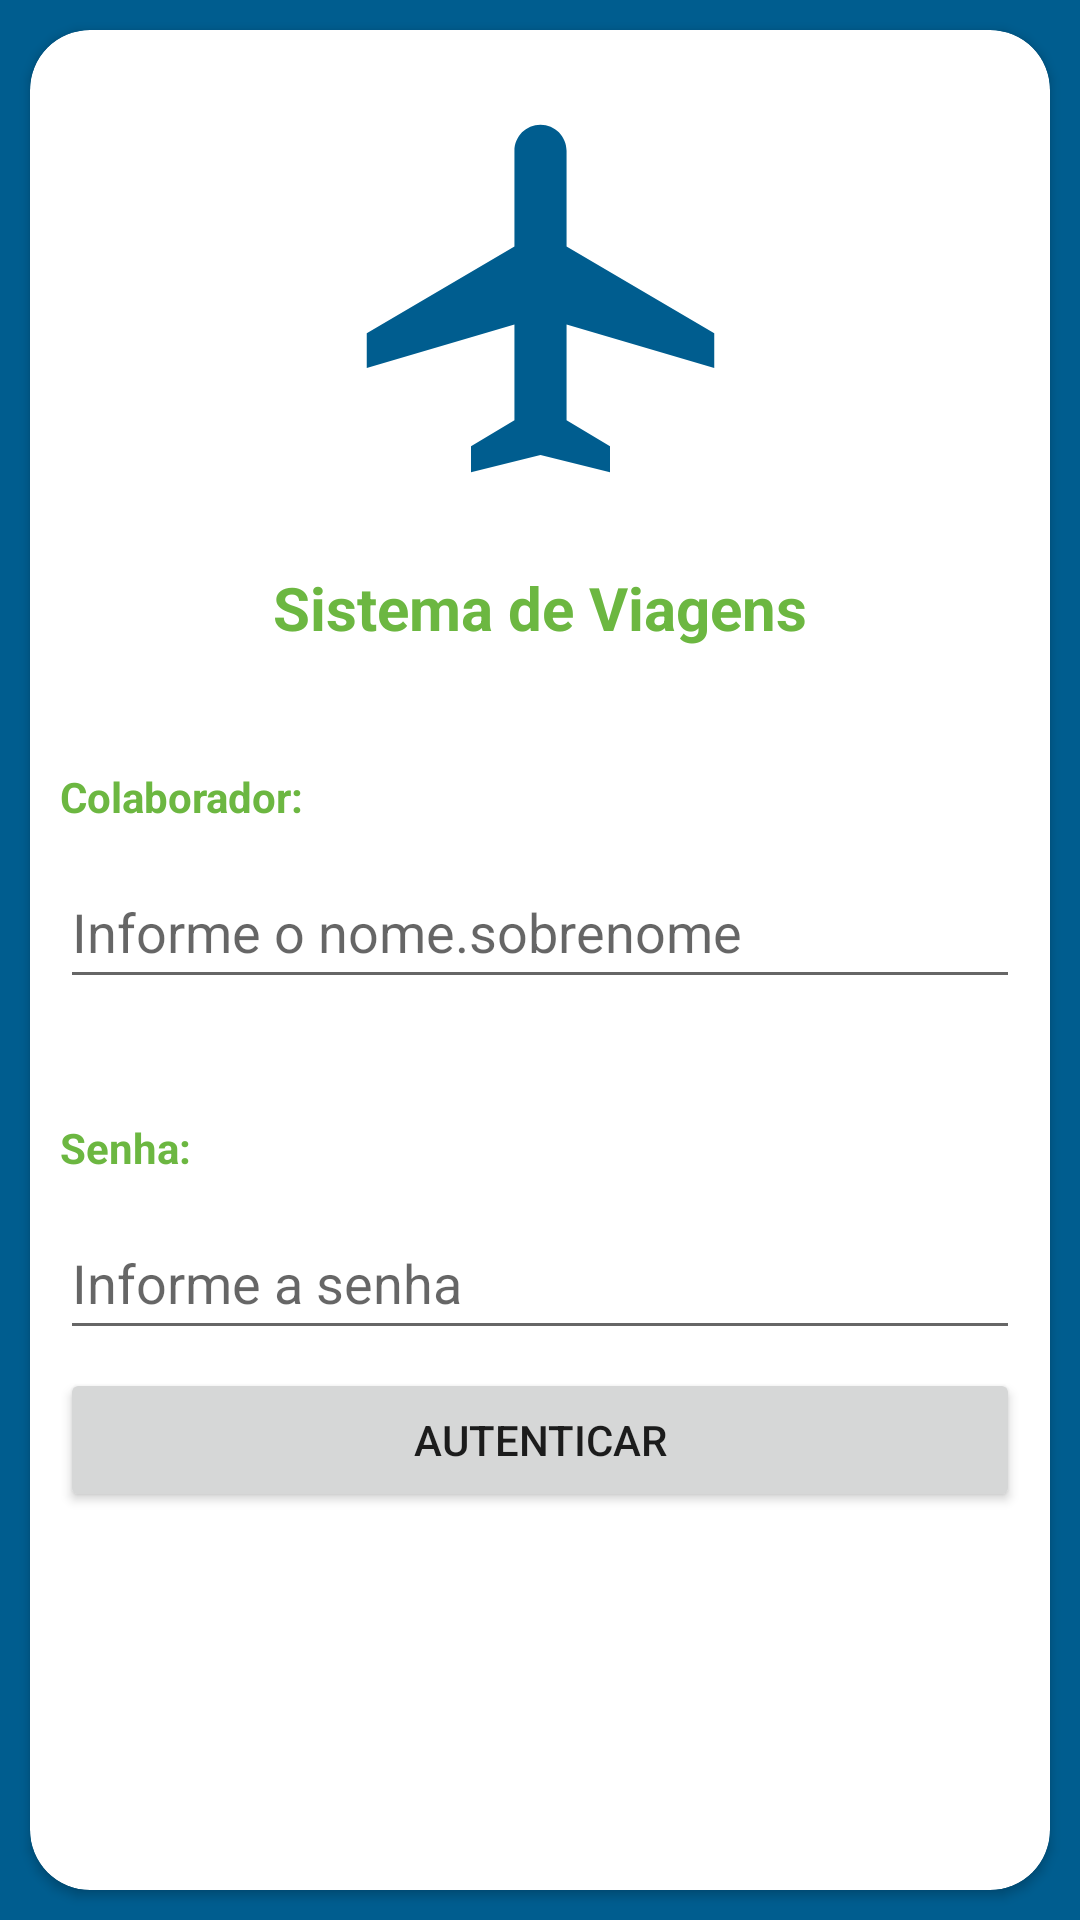

Where icons sit on this 1080px×1920px app screen, as (x1, y1, x2, y2):
local airport: (366, 124, 715, 473)
